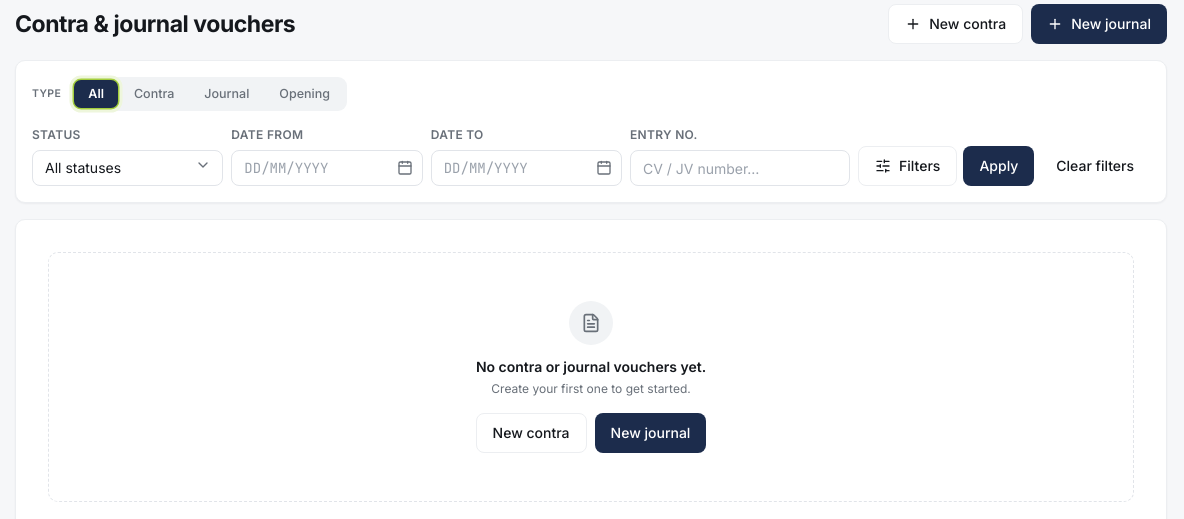
Test: VoucherListScreen — empty + error + validation › shows the two distinct empty variants
The image size is (1184, 519).
Expected: the element with test id "voucher-list-empty" shows "No contra or journal vouchers yet.", x1=476 y1=358 x2=706 y2=375
# Now apply a filter → filtered empty variant.
Select "Draft" in the dropdown with test id "voucher-filter-status" at x=128, y=168, box x1=32 y1=150 x2=223 y2=186
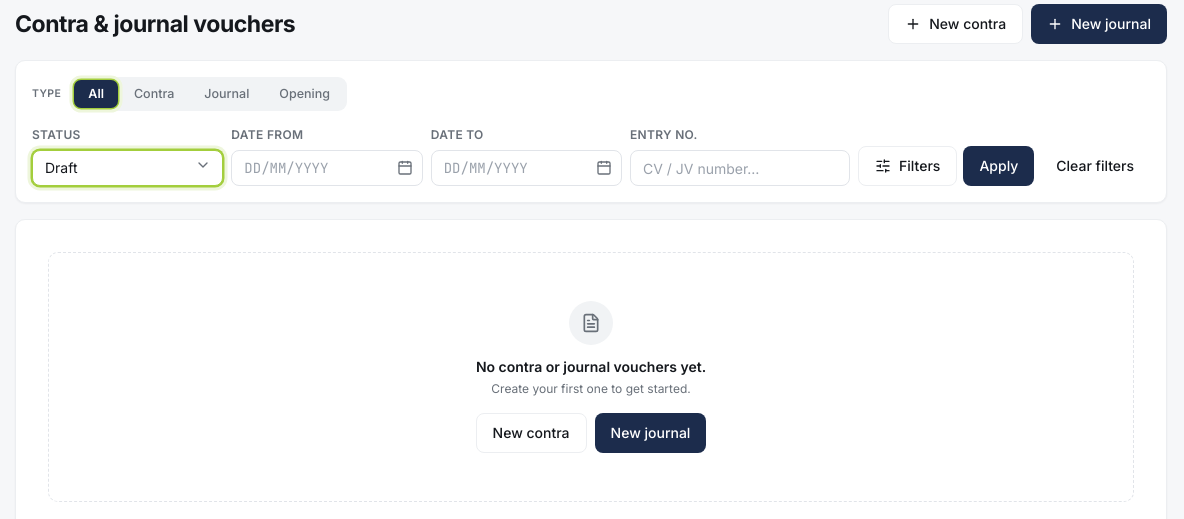
Click the button with test id "voucher-filter-apply".
click(999, 166)  # box x1=963 y1=146 x2=1034 y2=186
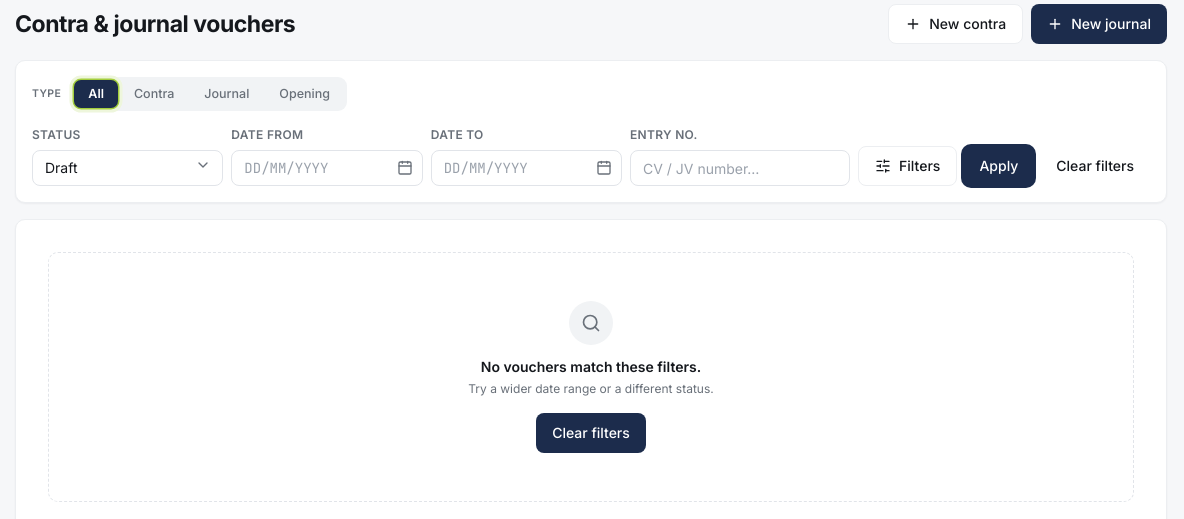
Expected: the element with test id "voucher-list-empty" shows "No vouchers match these filters.", x1=481 y1=358 x2=701 y2=375
